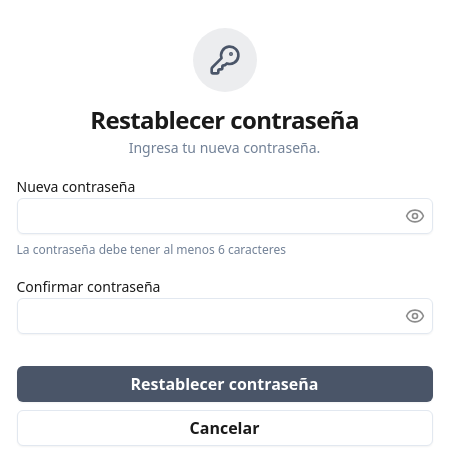
Test case: reset password field errors › blames only the empty field when one of the two is missing
Type "clave-nueva-larga" into the password field labelled "Nueva contraseña" at (224, 216), box [16,198,432,234]
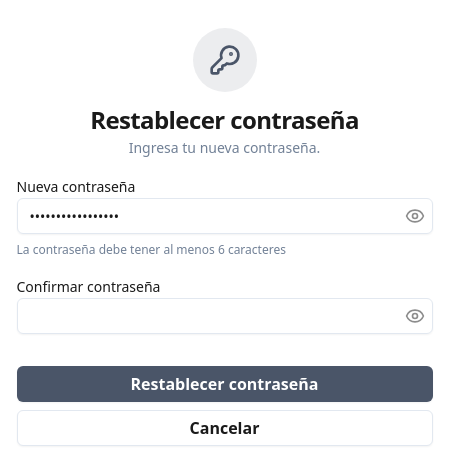
Submit the form labelled "Nueva contraseña", box [16,174,432,446]
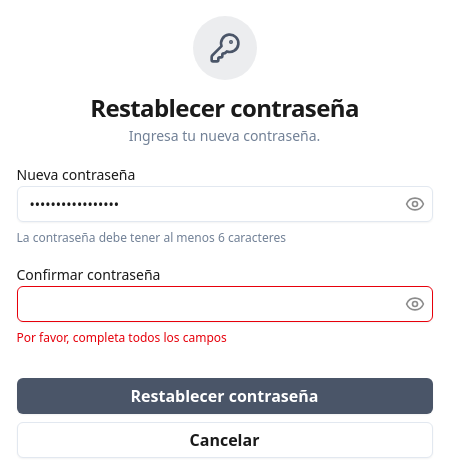
Now the password field labelled "Confirmar contraseña" is marked as invalid, box [16,286,432,322]
